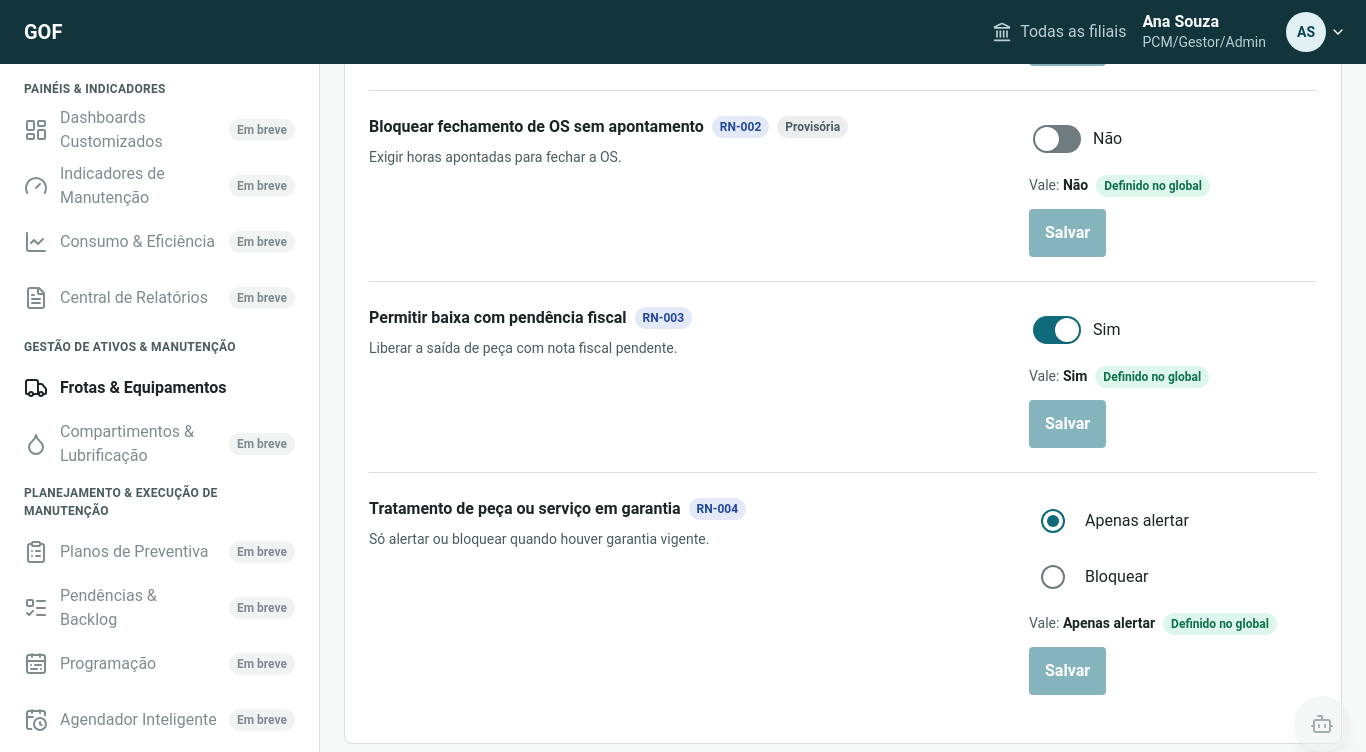
Test case: Painel de Parâmetros (F1-28) › PUT idempotente ("nenhuma alteração"): avisa que nada mudou, sem dizer que salvou
(page scrolled)
Expected: the element "Tratamento de peça ou serviço em garantia" shows "Definido no global", [1171,617,1269,631]
Click the 2nd radio button named "Bloquear". click: (1053, 577)
box: [1029,553,1077,601]
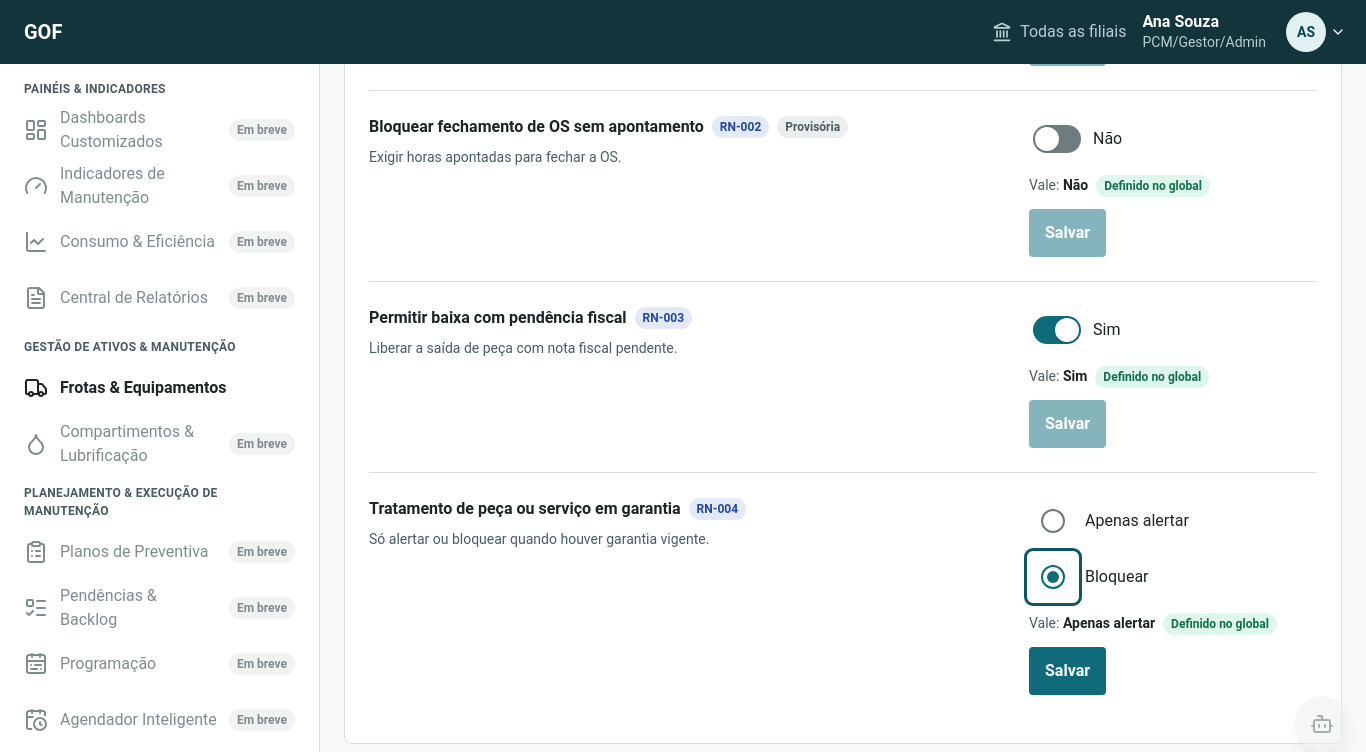
Click the 3rd button "Salvar". click: (1068, 671)
box: [1029,647,1106,695]
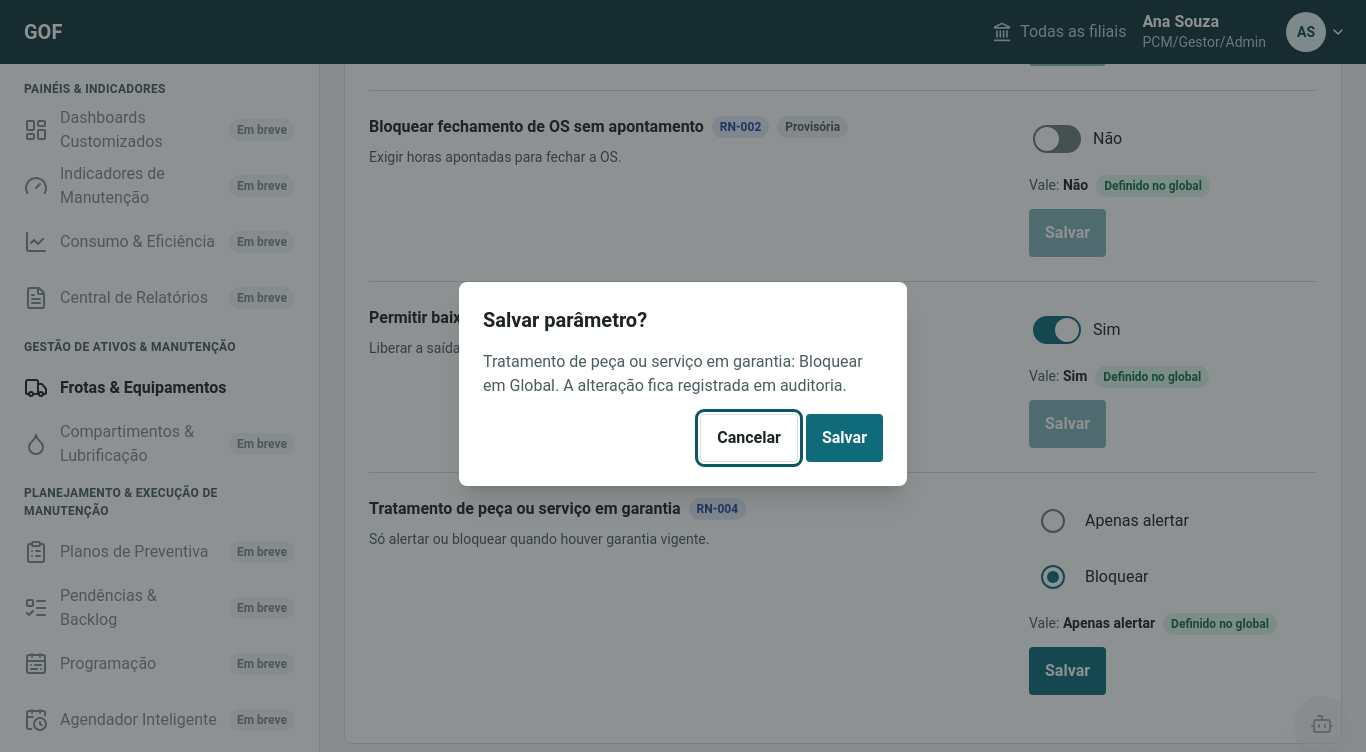
Click the button "Salvar". click: (844, 438)
box: [806,414,883,462]
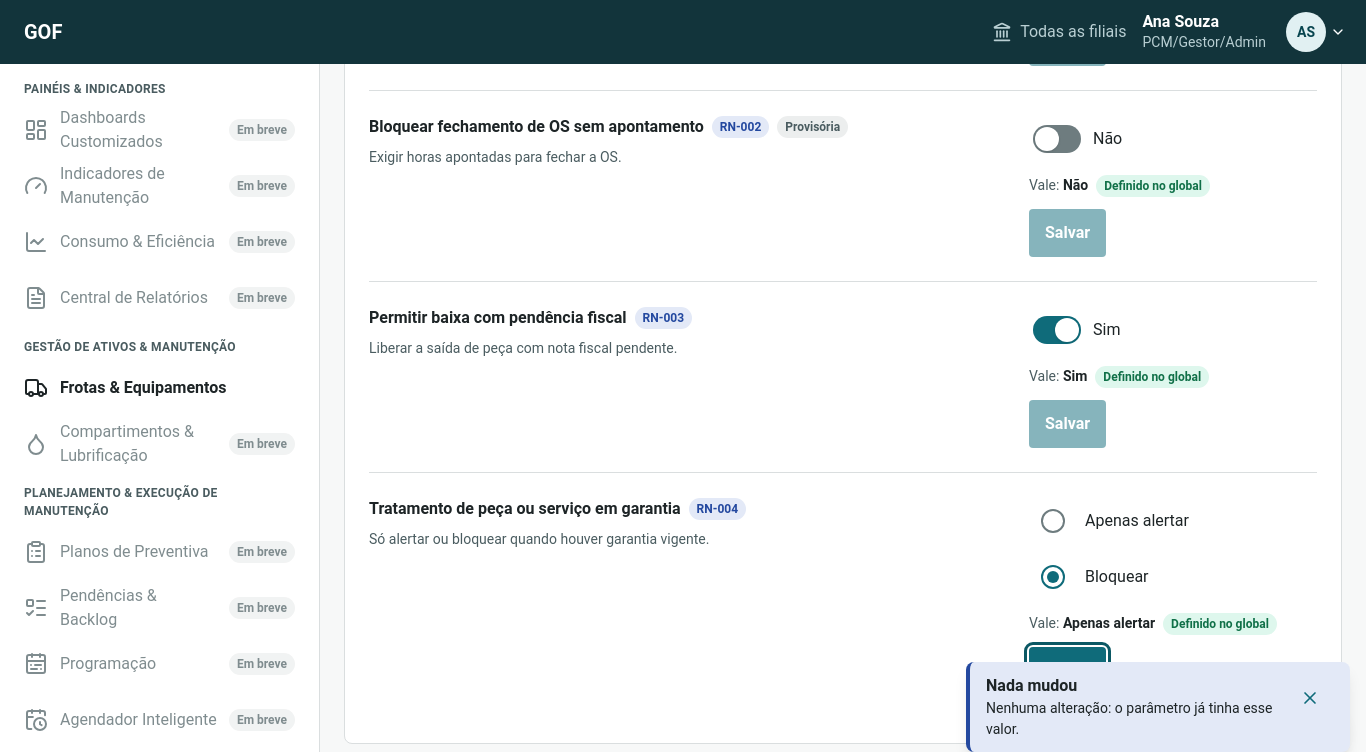
Now the text "Nada mudou" is shown, box [986,676,1077,695]
Now the text "Nenhuma alteração: o parâmetro já tinha esse valor." is shown, box [986,698,1274,740]
